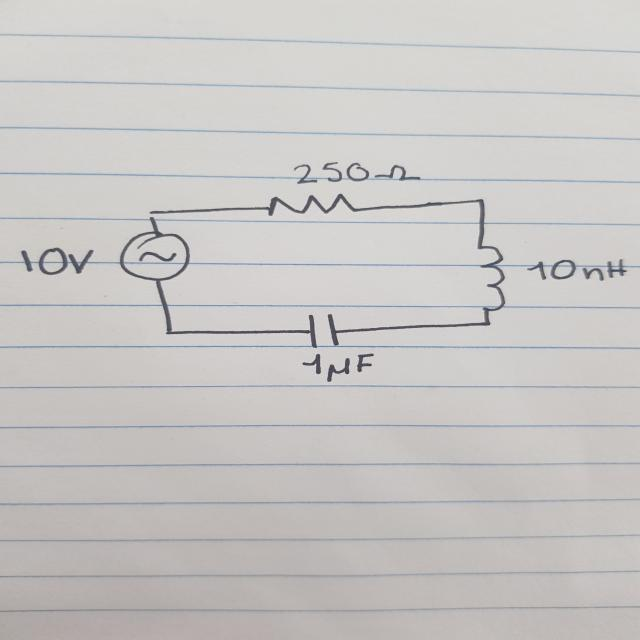capacitor: (300, 309, 349, 352)
inductor: (472, 242, 510, 312)
junction: (145, 209, 162, 221), (160, 328, 177, 338), (473, 196, 488, 207), (482, 321, 494, 330)
resistor: (263, 190, 370, 221)
source: (115, 229, 197, 284)
text: (290, 158, 422, 185), (525, 257, 629, 284), (16, 244, 97, 277), (300, 354, 380, 383)
